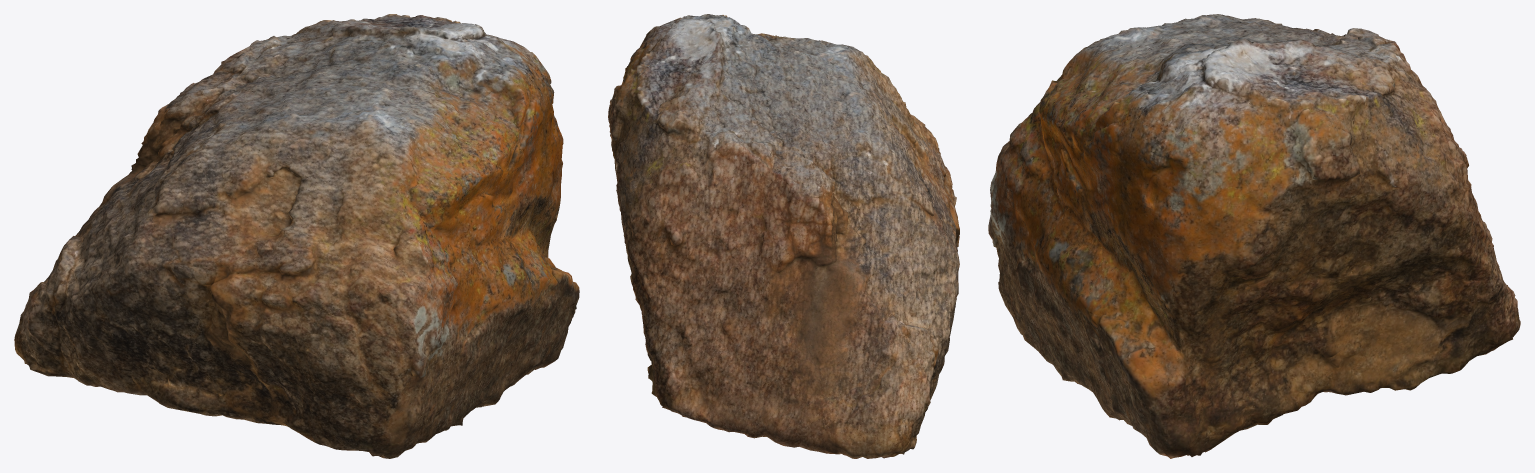
File: desert_hero_boulder_c.glb
3 renders of one model, left to right at view 1: azimuth 30°, elevation 25°; view 2: azimuth 150°, elevation 25°; view 3: azimuth 270°, elevation 25°, orthographic. The views are drawn at different scales.
Visible parts, largest first — view 1: boulder_04; view 2: boulder_04; view 3: boulder_04.
Boxes of the visible parts, left/top/right/bottom form: boulder_04: left=14, top=14, right=579, bottom=458; boulder_04: left=608, top=14, right=959, bottom=458; boulder_04: left=988, top=14, right=1520, bottom=458.
Size of the model in its own units: 2.52 by 1.9 by 2.5.
1 material, 1 textured.
